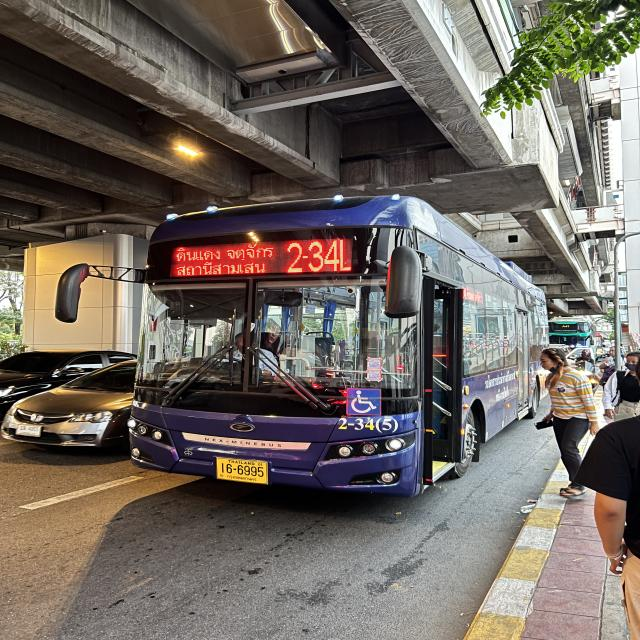Bus-Line-Number: (282, 239, 358, 274)
Destination-Sign-Normal: (170, 243, 278, 276)
TSB-Bus: (119, 183, 555, 504)
